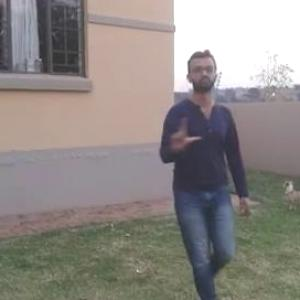land_hand: (165, 112, 202, 154)
